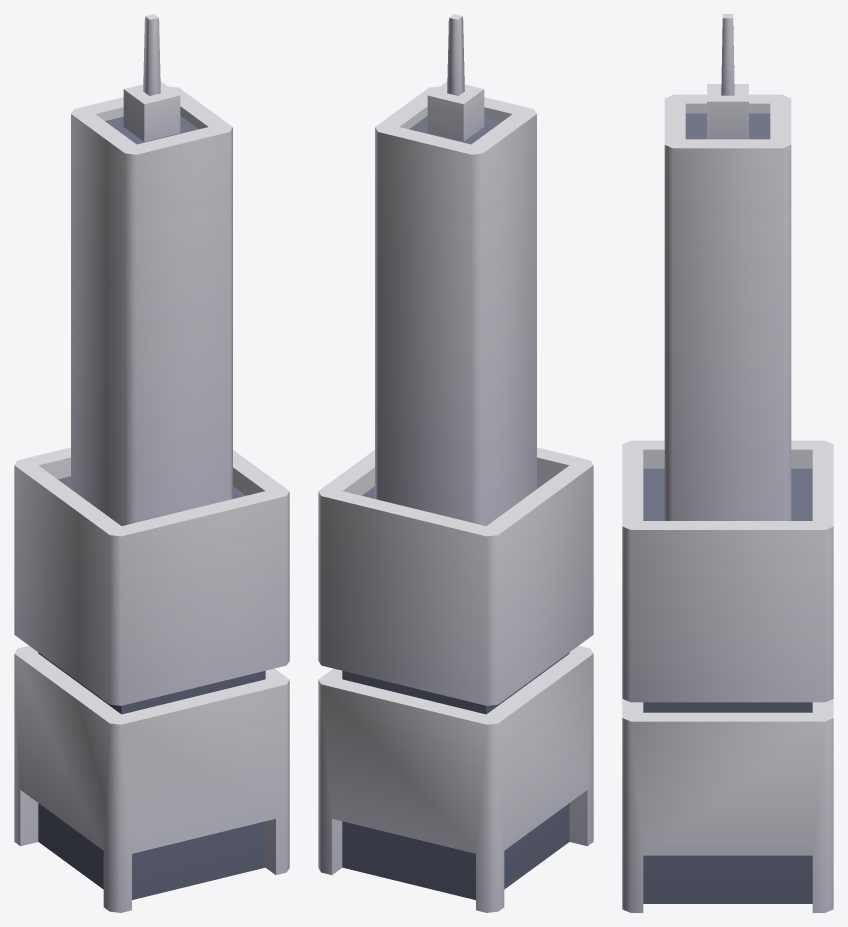
File: low-detail-building-b.glb
3 views of the same model, side by side, from view 1: azimuth 30°, elevation 25°; view 2: azimuth 150°, elevation 25°; view 3: azimuth 270°, elevation 25° (orthographic).
Parts seen in each view (by area): view 1: low-detail-building-b; view 2: low-detail-building-b; view 3: low-detail-building-b.
Part boxes in pixels (<box>): low-detail-building-b: <box>14,14,289,912</box>; low-detail-building-b: <box>318,14,593,912</box>; low-detail-building-b: <box>622,14,833,912</box>.
Bounding box in the file's own units: 0.5 × 2.23 × 0.5.
Materials: 1 (1 with a texture image).
